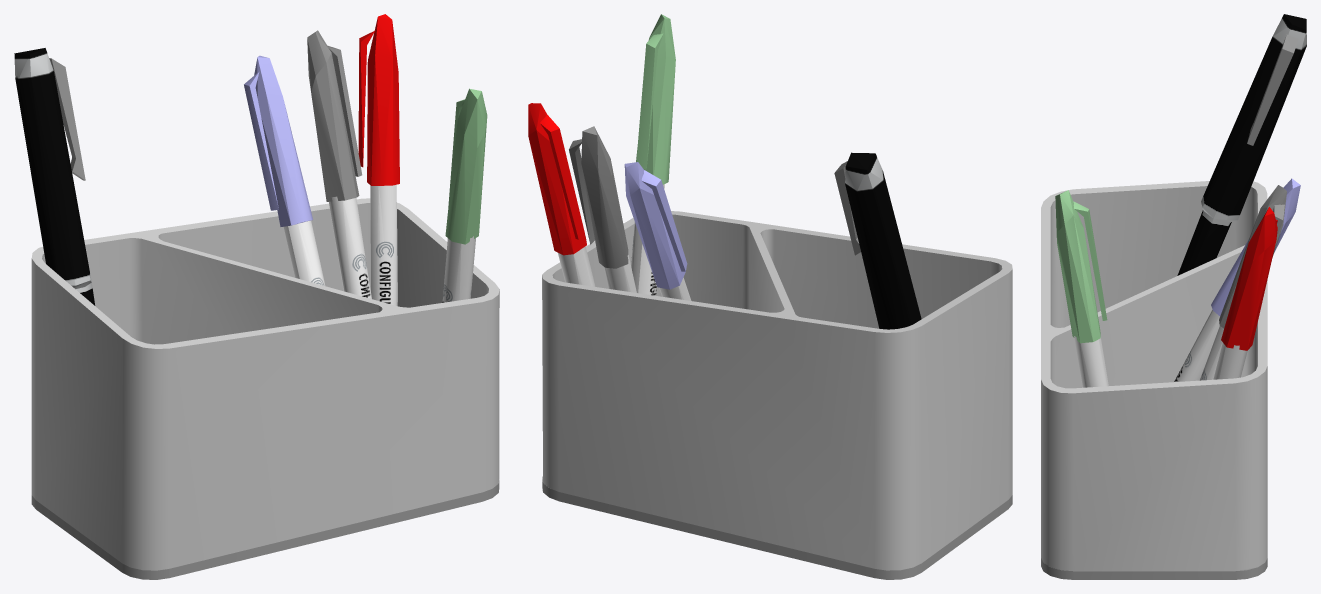
Rendered from Organizador Con Lapiceros.glb.
The picture shows the model from 3 angles, left to right: view 1: azimuth 30°, elevation 25°; view 2: azimuth 150°, elevation 25°; view 3: azimuth 270°, elevation 25°; orthographic projection. The views are drawn at different scales.
Visible parts, largest first — view 1: 54e55c30-0e5a-46f6-addd-1205dcdcc46b, abc93796-762a-418d-b0de-d0ad64c3669c, ed6b471d-8cb8-4ead-bcdf-4863a23a6d1a, 004caefd-83d6-490e-ad3f-b75b08b40ac7, 776a87c6-032d-4950-b6f9-952c88b2b9b6, a7656c14-f62a-42b3-b83f-b6798229a201, 477a362a-011d-4816-a2f4-c9e321f5166c, c3ff9b55-12f0-44d8-8d86-9b0f65341436, 03c44487-8c38-4ef7-8d02-8b52213588ce, c2ec3454-7e5c-4456-9421-7d3541e65689, d5e5cb21-8474-4ff8-ab1b-5ca3a45baf56, 36818791-b5b1-4505-9471-9565edde3486 (+3 smaller); view 2: 54e55c30-0e5a-46f6-addd-1205dcdcc46b, abc93796-762a-418d-b0de-d0ad64c3669c, 776a87c6-032d-4950-b6f9-952c88b2b9b6, 004caefd-83d6-490e-ad3f-b75b08b40ac7, a7656c14-f62a-42b3-b83f-b6798229a201, ed6b471d-8cb8-4ead-bcdf-4863a23a6d1a, 477a362a-011d-4816-a2f4-c9e321f5166c, 51d7fc58-2f8a-444a-8865-79a09ca25e70, ddca520c-ef87-4faf-be13-e34f239f14de, f2bcd6cc-820b-4c42-8405-068c08042d55, c2ec3454-7e5c-4456-9421-7d3541e65689, c3ff9b55-12f0-44d8-8d86-9b0f65341436 (+3 smaller); view 3: 54e55c30-0e5a-46f6-addd-1205dcdcc46b, abc93796-762a-418d-b0de-d0ad64c3669c, 477a362a-011d-4816-a2f4-c9e321f5166c, ed6b471d-8cb8-4ead-bcdf-4863a23a6d1a, 776a87c6-032d-4950-b6f9-952c88b2b9b6, d5e5cb21-8474-4ff8-ab1b-5ca3a45baf56, 36818791-b5b1-4505-9471-9565edde3486, c2ec3454-7e5c-4456-9421-7d3541e65689, a7656c14-f62a-42b3-b83f-b6798229a201, 004caefd-83d6-490e-ad3f-b75b08b40ac7, c3ff9b55-12f0-44d8-8d86-9b0f65341436, 51d7fc58-2f8a-444a-8865-79a09ca25e70 (+1 smaller).
Boxes of the visible parts, bbox=[...] form: 54e55c30-0e5a-46f6-addd-1205dcdcc46b: bbox=[31, 198, 499, 570]; abc93796-762a-418d-b0de-d0ad64c3669c: bbox=[14, 48, 95, 305]; ed6b471d-8cb8-4ead-bcdf-4863a23a6d1a: bbox=[367, 14, 399, 185]; 004caefd-83d6-490e-ad3f-b75b08b40ac7: bbox=[307, 30, 359, 201]; 776a87c6-032d-4950-b6f9-952c88b2b9b6: bbox=[31, 479, 499, 579]; a7656c14-f62a-42b3-b83f-b6798229a201: bbox=[254, 55, 312, 226]; 477a362a-011d-4816-a2f4-c9e321f5166c: bbox=[445, 88, 487, 244]; c3ff9b55-12f0-44d8-8d86-9b0f65341436: bbox=[370, 184, 397, 305]; 03c44487-8c38-4ef7-8d02-8b52213588ce: bbox=[329, 196, 371, 298]; c2ec3454-7e5c-4456-9421-7d3541e65689: bbox=[442, 236, 475, 302]; d5e5cb21-8474-4ff8-ab1b-5ca3a45baf56: bbox=[283, 220, 325, 285]; 36818791-b5b1-4505-9471-9565edde3486: bbox=[49, 58, 85, 180]; 54e55c30-0e5a-46f6-addd-1205dcdcc46b: bbox=[542, 211, 1012, 570]; abc93796-762a-418d-b0de-d0ad64c3669c: bbox=[845, 152, 921, 329]; 776a87c6-032d-4950-b6f9-952c88b2b9b6: bbox=[542, 476, 1012, 579]; 004caefd-83d6-490e-ad3f-b75b08b40ac7: bbox=[581, 126, 628, 268]; a7656c14-f62a-42b3-b83f-b6798229a201: bbox=[624, 162, 685, 289]; ed6b471d-8cb8-4ead-bcdf-4863a23a6d1a: bbox=[528, 103, 586, 255]; 477a362a-011d-4816-a2f4-c9e321f5166c: bbox=[636, 14, 675, 184]; 51d7fc58-2f8a-444a-8865-79a09ca25e70: bbox=[636, 33, 663, 169]; ddca520c-ef87-4faf-be13-e34f239f14de: bbox=[540, 114, 584, 239]; f2bcd6cc-820b-4c42-8405-068c08042d55: bbox=[641, 170, 687, 271]; c2ec3454-7e5c-4456-9421-7d3541e65689: bbox=[631, 184, 664, 295]; c3ff9b55-12f0-44d8-8d86-9b0f65341436: bbox=[558, 246, 595, 286]; 54e55c30-0e5a-46f6-addd-1205dcdcc46b: bbox=[1041, 181, 1267, 570]; abc93796-762a-418d-b0de-d0ad64c3669c: bbox=[1177, 14, 1306, 275]; 477a362a-011d-4816-a2f4-c9e321f5166c: bbox=[1055, 190, 1100, 343]; ed6b471d-8cb8-4ead-bcdf-4863a23a6d1a: bbox=[1221, 207, 1277, 350]; 776a87c6-032d-4950-b6f9-952c88b2b9b6: bbox=[1041, 558, 1267, 579]; d5e5cb21-8474-4ff8-ab1b-5ca3a45baf56: bbox=[1174, 310, 1219, 381]; 36818791-b5b1-4505-9471-9565edde3486: bbox=[1247, 34, 1298, 145]; c2ec3454-7e5c-4456-9421-7d3541e65689: bbox=[1074, 336, 1108, 387]; a7656c14-f62a-42b3-b83f-b6798229a201: bbox=[1211, 178, 1300, 316]; 004caefd-83d6-490e-ad3f-b75b08b40ac7: bbox=[1219, 185, 1286, 328]; c3ff9b55-12f0-44d8-8d86-9b0f65341436: bbox=[1213, 342, 1247, 379]; 51d7fc58-2f8a-444a-8865-79a09ca25e70: bbox=[1073, 201, 1107, 320].
Bounding box in the file's own units: 0.1255 × 0.1381 × 0.0823.
9 materials, 2 textured.
